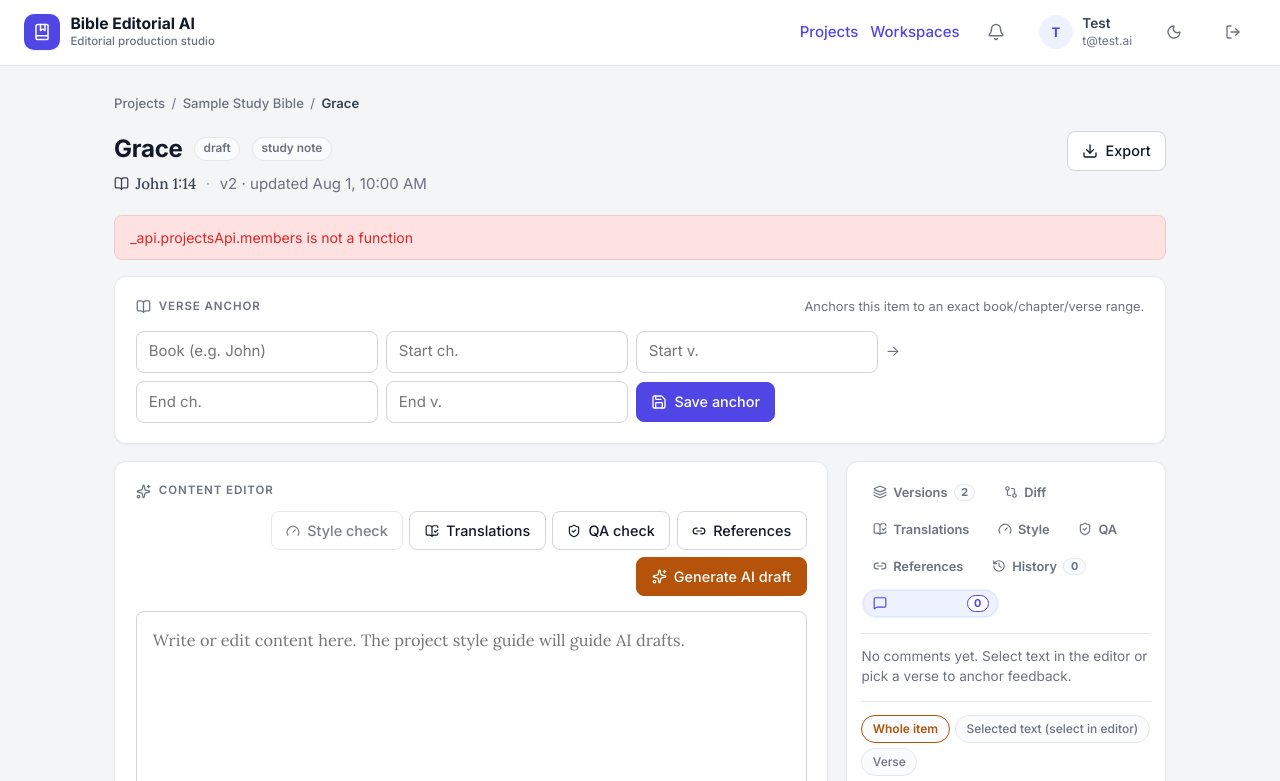
Test case: Editor version diff › highlights additions and removals between versions
Expected: the heading "Grace" is shown, [114,131,183,167]
Click the tab "Diff". click: x=1025, y=492
box: [992,477,1058,508]
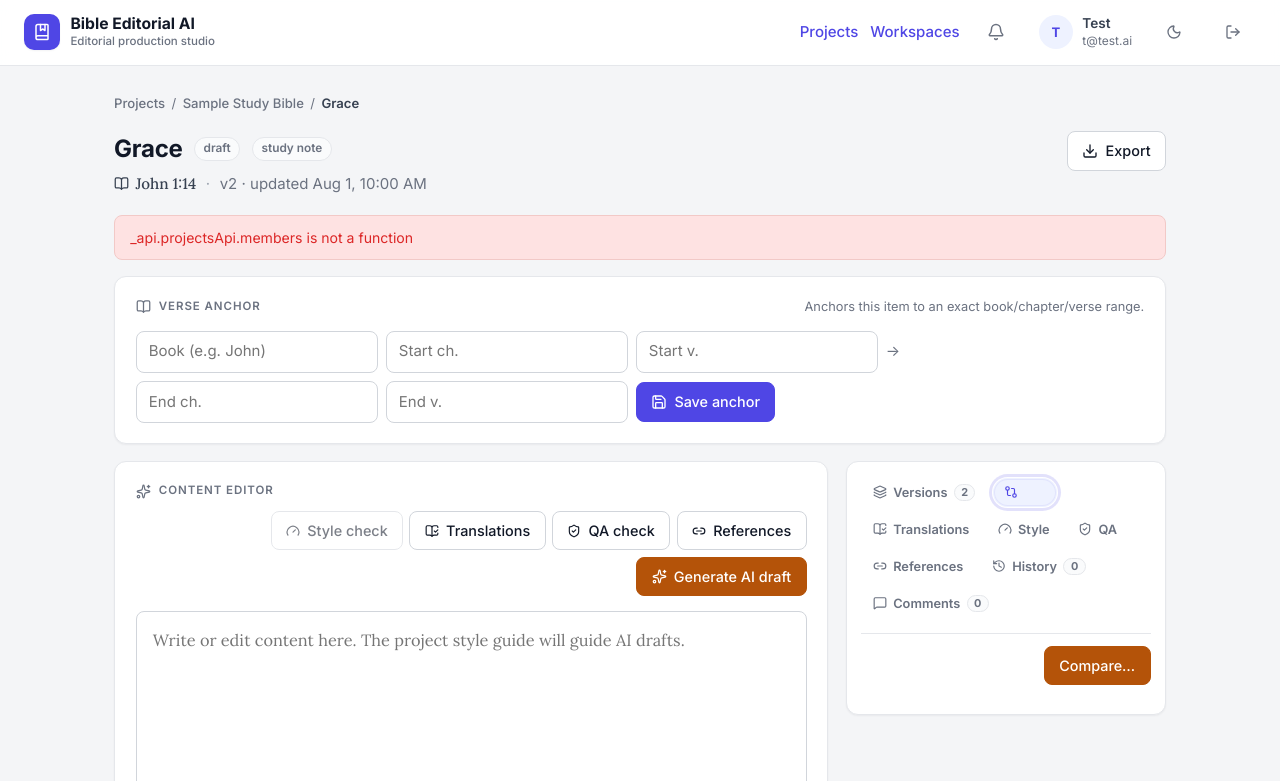
Click the button "Compare…". click: x=1097, y=666
box: [1044,646,1151,685]
(page scrolled)
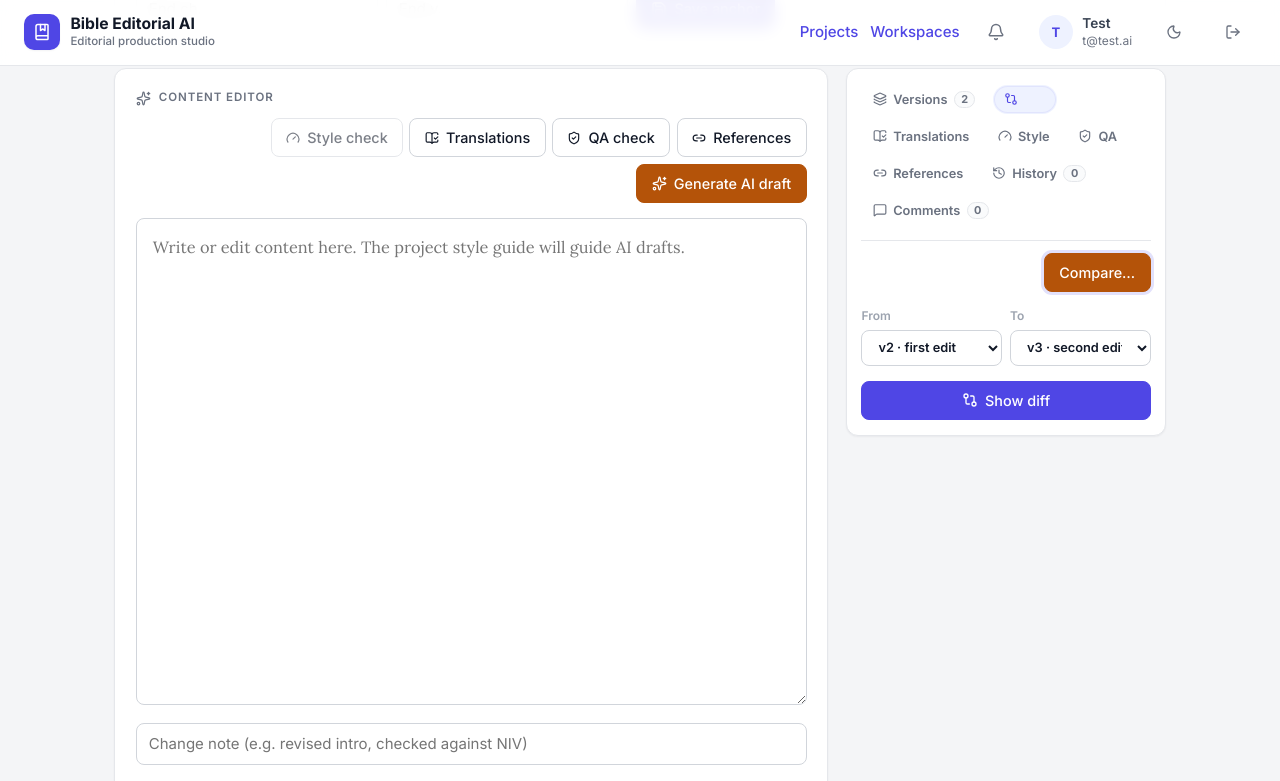
Click the button "Show diff". click: x=1006, y=400
box: [861,381,1151,420]
(page scrolled)
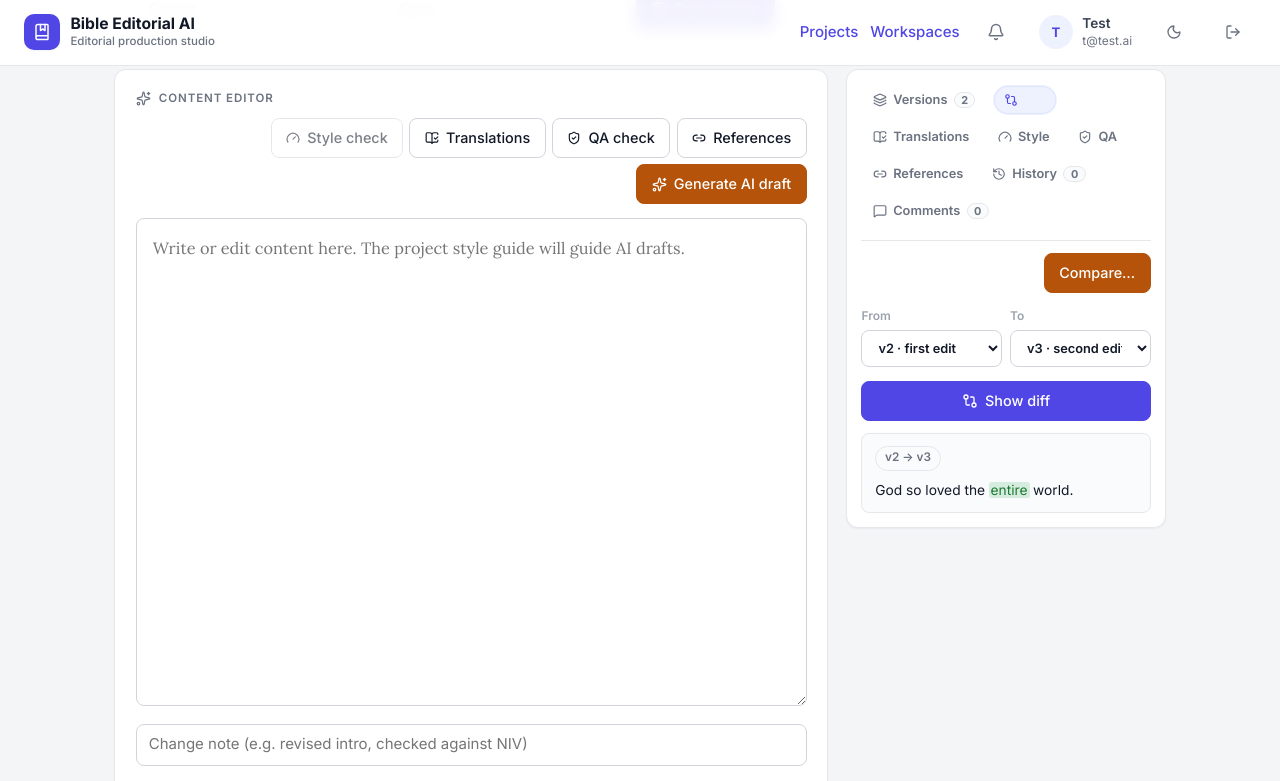
Expected: the text "v2 → v3" is shown, [875,446,941,471]
